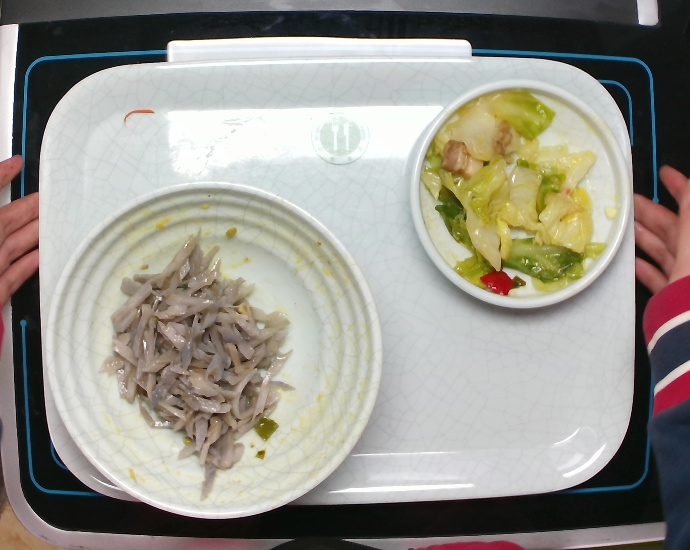JYsf-Da_Tang_Wan: (42, 168, 382, 525)
JYsf-Xiao_Yuan_Pan: (392, 73, 634, 316)
